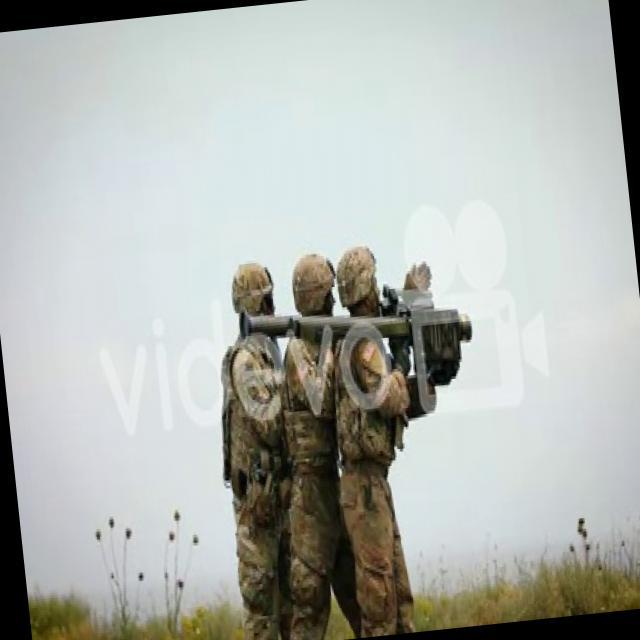rocket: (237, 282, 474, 372)
